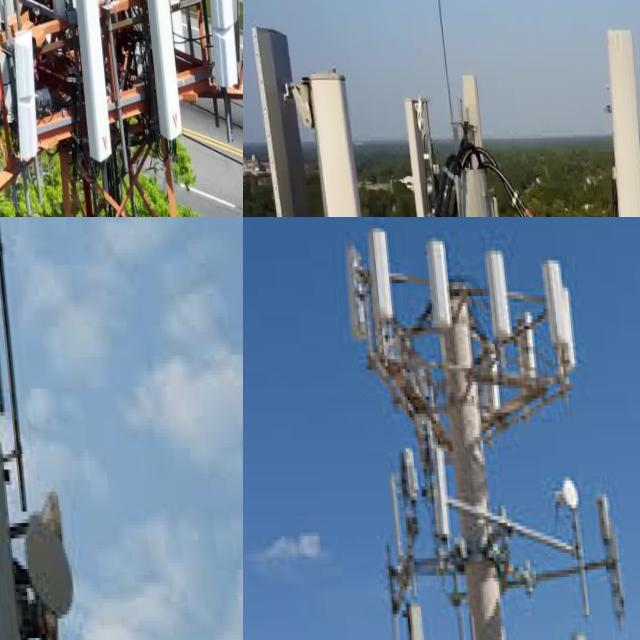GSM Antenna: (243, 18, 314, 217), (284, 59, 352, 217), (63, 0, 109, 170), (601, 18, 640, 217), (134, 0, 181, 146), (0, 29, 36, 167), (415, 227, 457, 339), (590, 491, 623, 625), (336, 237, 374, 342), (199, 0, 237, 102), (538, 241, 570, 357), (480, 246, 515, 343), (422, 438, 450, 550), (363, 225, 392, 328), (387, 599, 427, 640)
Microwave Antenna: (10, 517, 68, 623), (394, 91, 440, 217), (456, 69, 486, 217), (539, 473, 583, 523)
